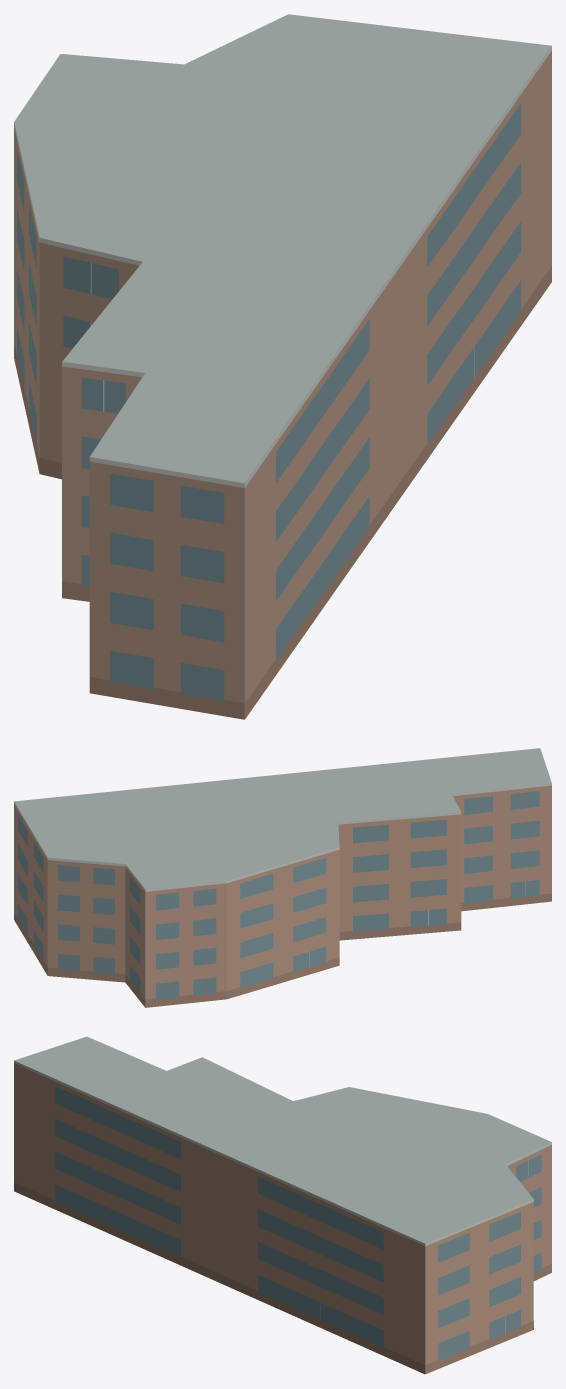
File: residential-4ab87a1f-c56d-4b27-994c-973859ed432b.glb
3 views of the same model, one above another, from view 1: azimuth 30°, elevation 25°; view 2: azimuth 150°, elevation 25°; view 3: azimuth 270°, elevation 25° (orthographic). The views are drawn at different scales.
Visible parts, largest first — view 1: residential-4ab87a1f-c56d-4b27-994c-973859ed432b.tmp; view 2: residential-4ab87a1f-c56d-4b27-994c-973859ed432b.tmp; view 3: residential-4ab87a1f-c56d-4b27-994c-973859ed432b.tmp.
Part boxes in pixels (x1=…): residential-4ab87a1f-c56d-4b27-994c-973859ed432b.tmp: x1=14, y1=14, x2=551, y2=719; residential-4ab87a1f-c56d-4b27-994c-973859ed432b.tmp: x1=14, y1=748, x2=551, y2=1007; residential-4ab87a1f-c56d-4b27-994c-973859ed432b.tmp: x1=14, y1=1036, x2=551, y2=1374.
Bounding box in the file's own units: 41.49 × 12.2 × 45.51.
